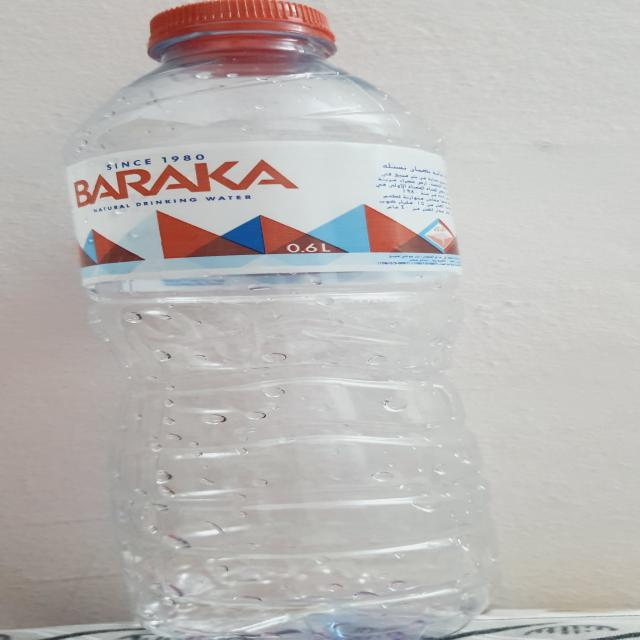plastic: (64, 1, 498, 639)
